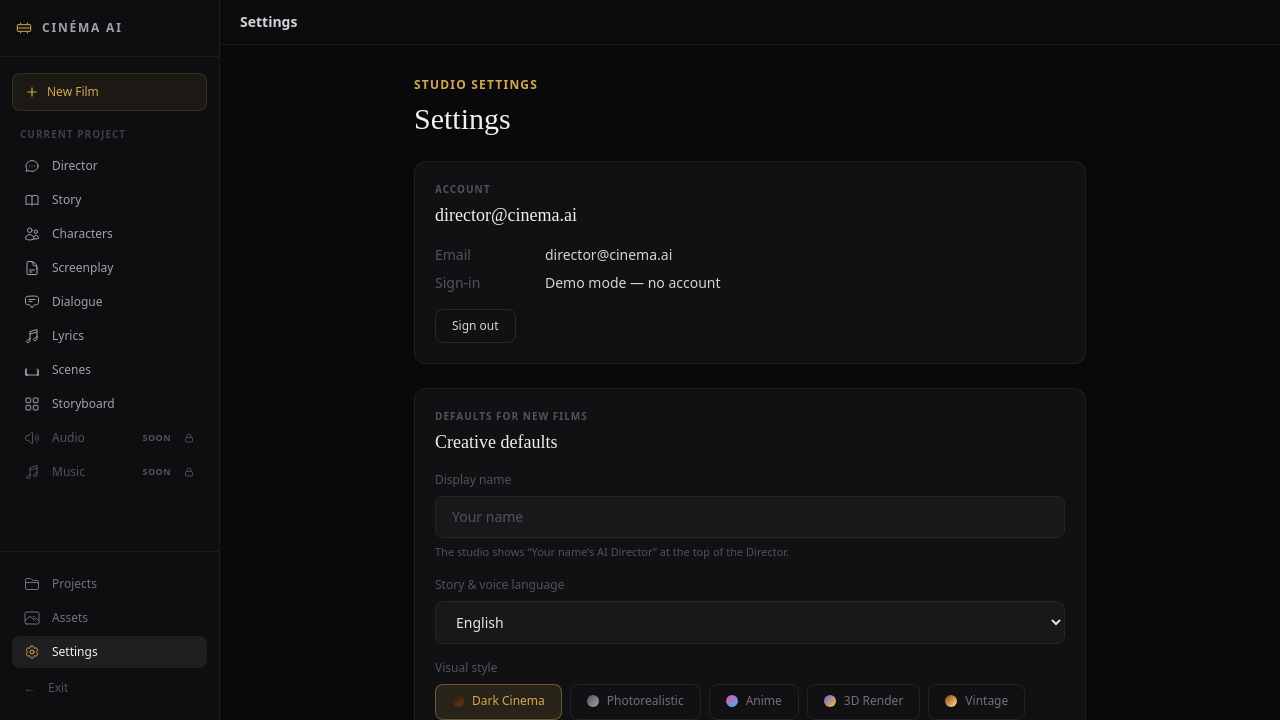
Test: display name and home page wording › Settings shows how the name appears: “Vishakha’s AI Director”
The image size is (1280, 720).
Expected: the text with test id "display-name-hint" shows "Your name’s AI Director", [532, 544, 653, 559]
In the field labelled "Display name": (750, 517) [435, 496, 1065, 538], type "Vishakha"
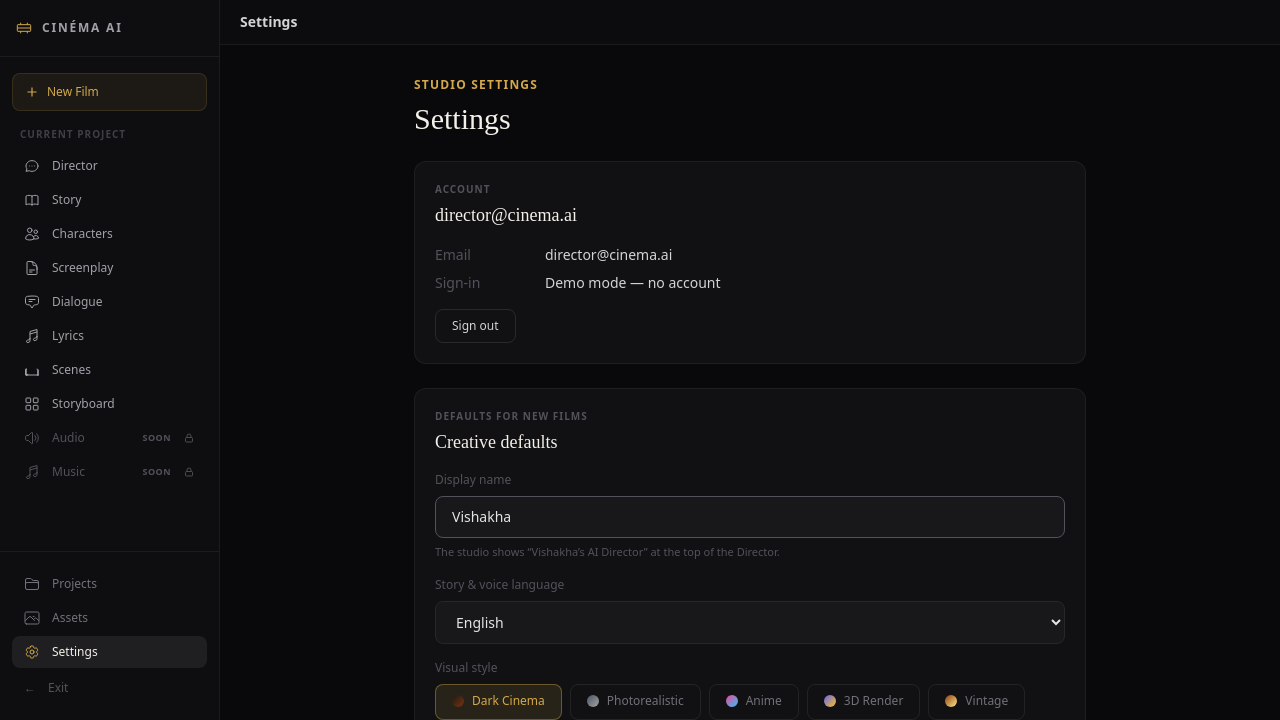
Expected: the text with test id "display-name-hint" shows "Vishakha’s AI Director", [532, 544, 644, 559]
